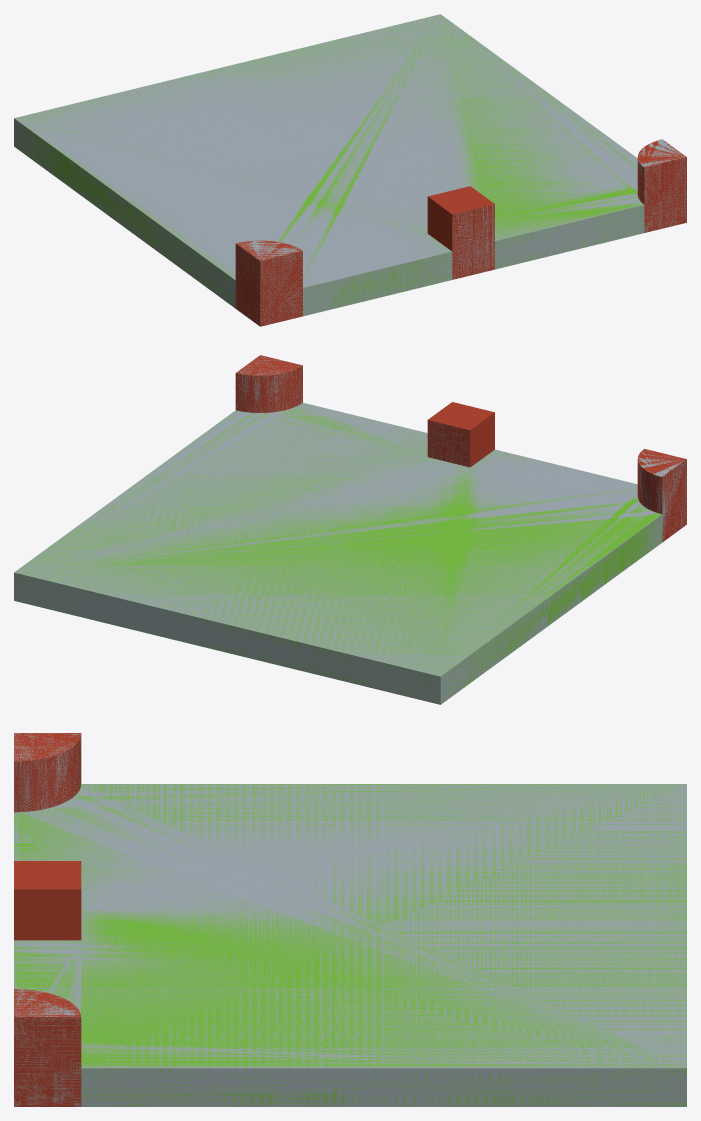
File: Split_walls_to_open_01.obj
3 views of the same model, one above another, from view 1: azimuth 30°, elevation 25°; view 2: azimuth 150°, elevation 25°; view 3: azimuth 270°, elevation 25° (orthographic). The views are drawn at different scales.
Parts seen in each view (by area): view 1: Mesh1 Split_walls_to_open Model; view 2: Mesh1 Split_walls_to_open Model; view 3: Mesh1 Split_walls_to_open Model.
Part boxes in pixels (x1,y1,x2,y2): Mesh1 Split_walls_to_open Model: [14, 14, 686, 326]; Mesh1 Split_walls_to_open Model: [14, 355, 686, 704]; Mesh1 Split_walls_to_open Model: [14, 733, 686, 1106].
Bounding box in the file's own units: 3 × 0.44 × 3.
